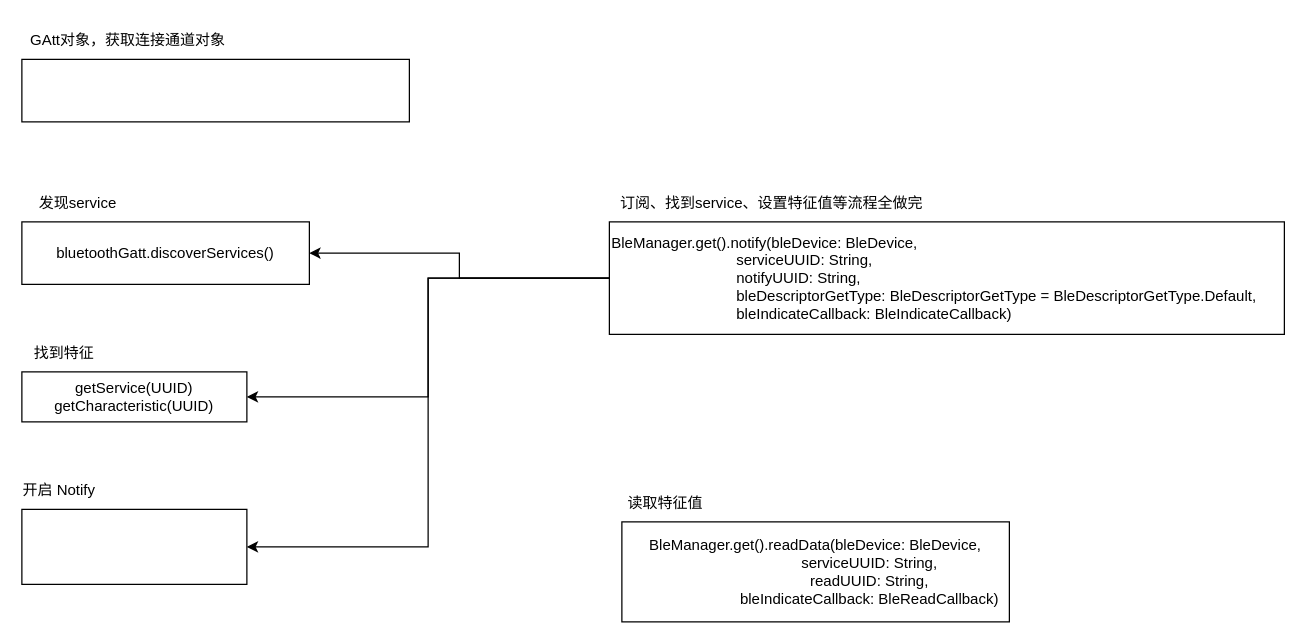
Image size: 1306x644. Some labels were removed from this diagram. The shapes that lost their labels are listed below. From the top down, each one's centre as x and y in pixels, then its label:
At [215,90]: "BluetoothDevice → connectGatt → BluetoothGatt".
At [134,546]: "setCharacteristicNotification() 写入CCCD".
